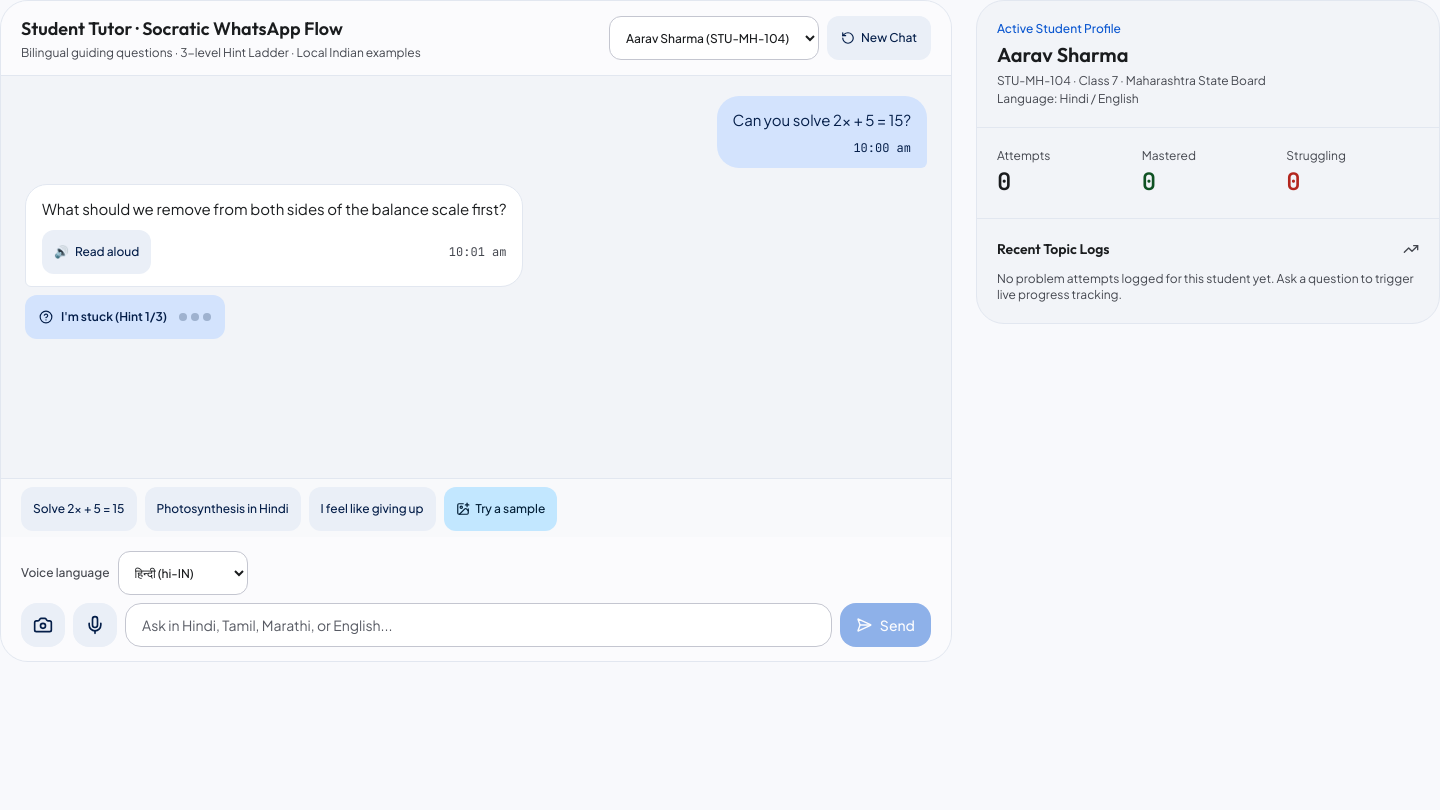
Shiksha-Agent React components › progresses the 3-level Hint Ladder with 3 small dots under the latest tutor message and labels sample button "Try a sample"
Expected: the button "Try a sample" is shown, [444,487,557,531]
Step 1. Click the button "I'm stuck (Hint 1/3)" → (125, 317), box [25,295,225,339]
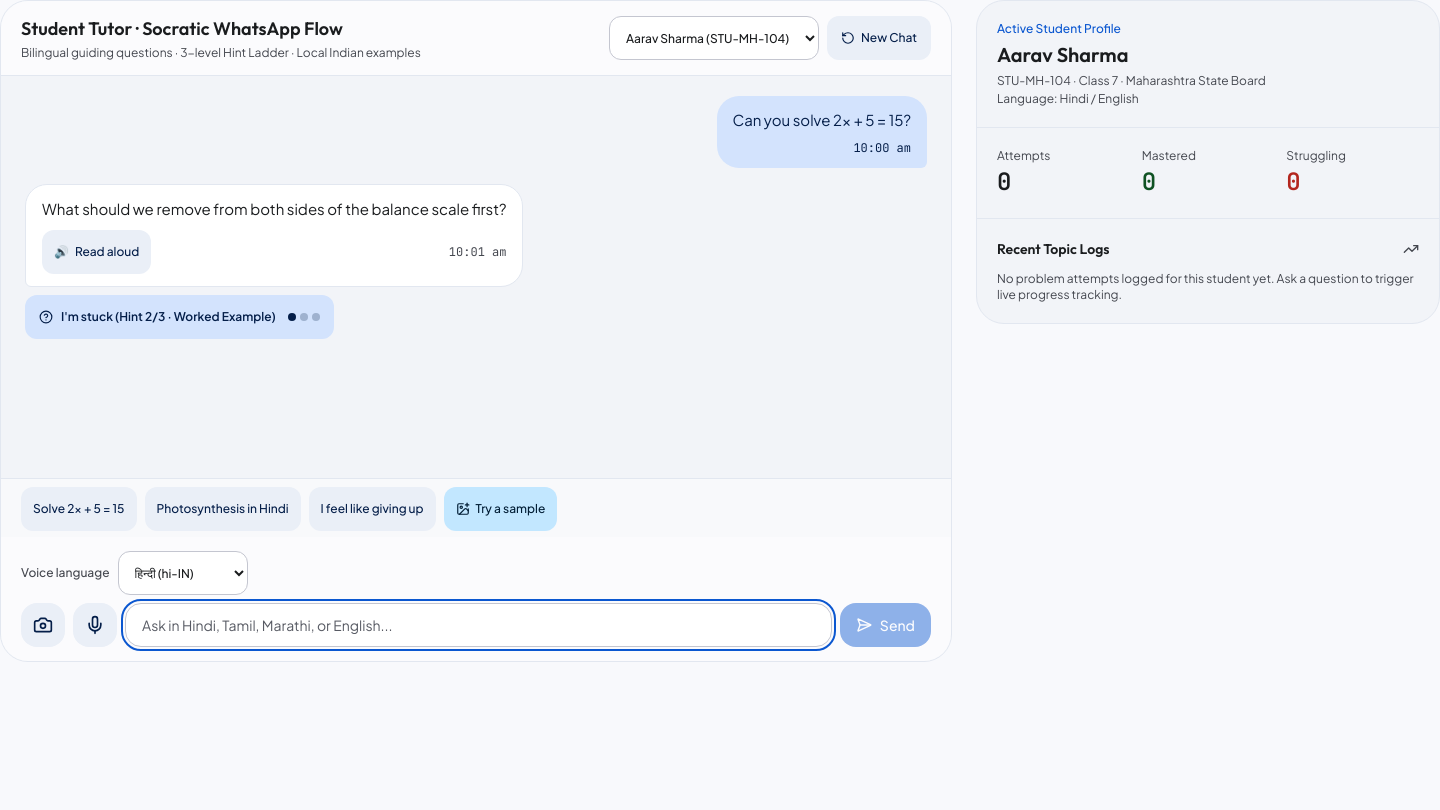
Result: the element with test id "hint-level-dots" has attribute aria-label="Hint level 1 of 3" at [288,313,320,321]
Step 2. Click the button "I'm stuck (Hint 2/3 · Worked Example)" → (179, 317), box [25,295,334,339]
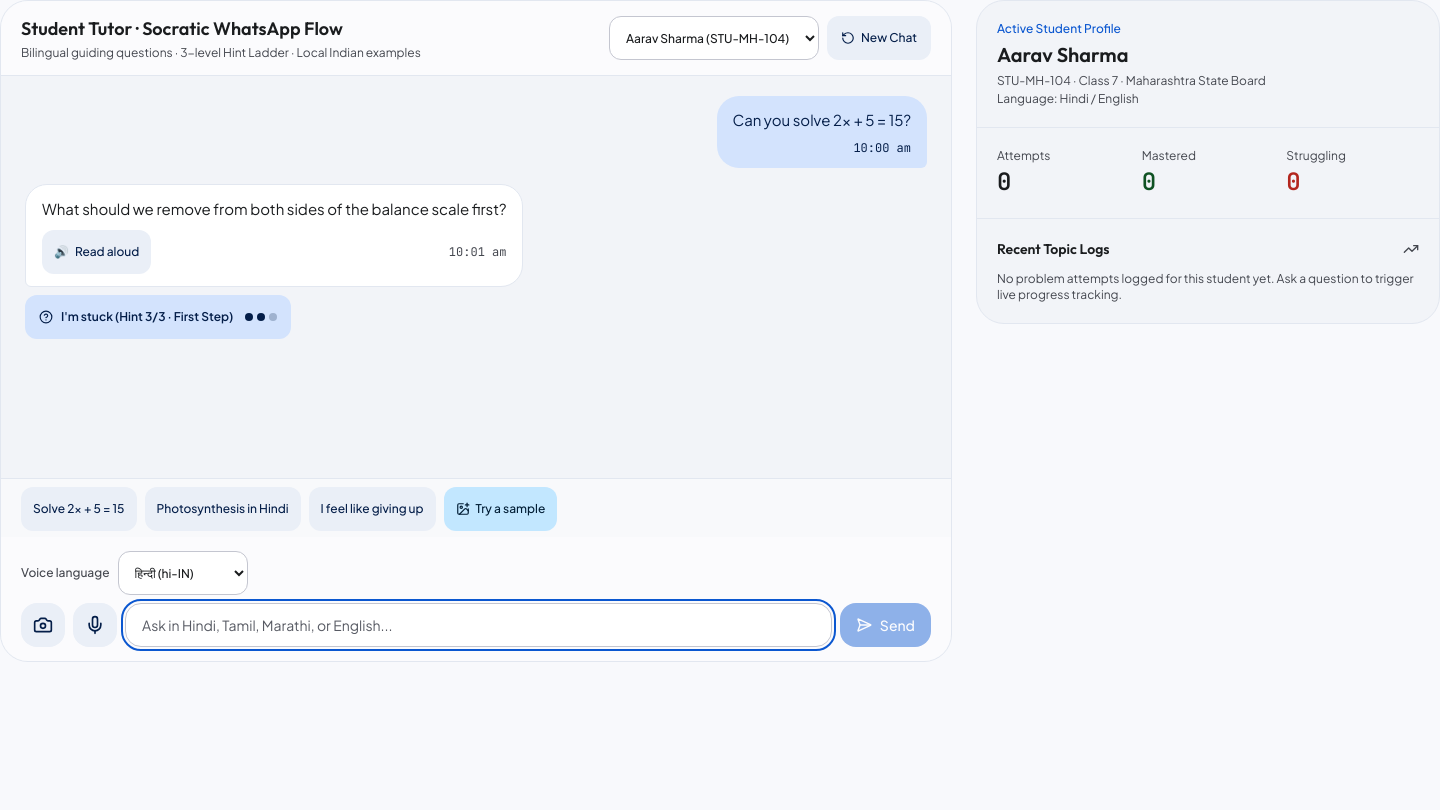
Result: the element with test id "hint-level-dots" has attribute aria-label="Hint level 2 of 3" at [245,313,277,321]
Step 3. Click the button "I'm stuck (Hint 3/3 · First Step)" → (158, 317), box [25,295,291,339]
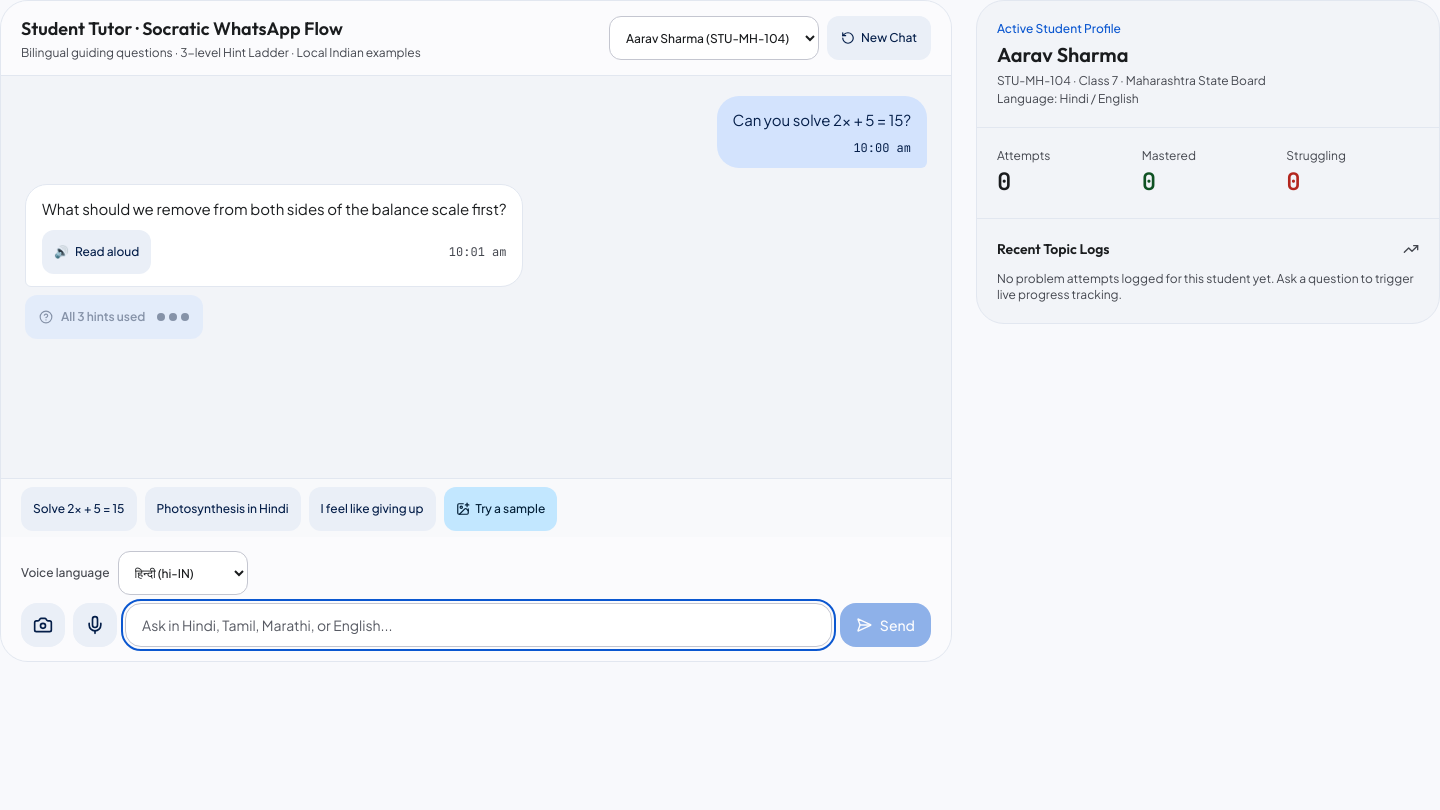
Result: the button "All 3 hints used" is disabled at [25,295,203,339]
